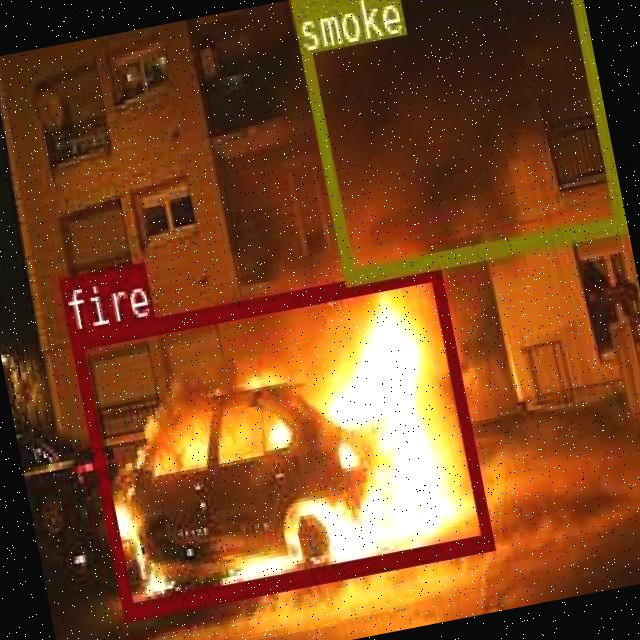fire: (69, 264, 492, 618)
smoke: (287, 0, 622, 281)
